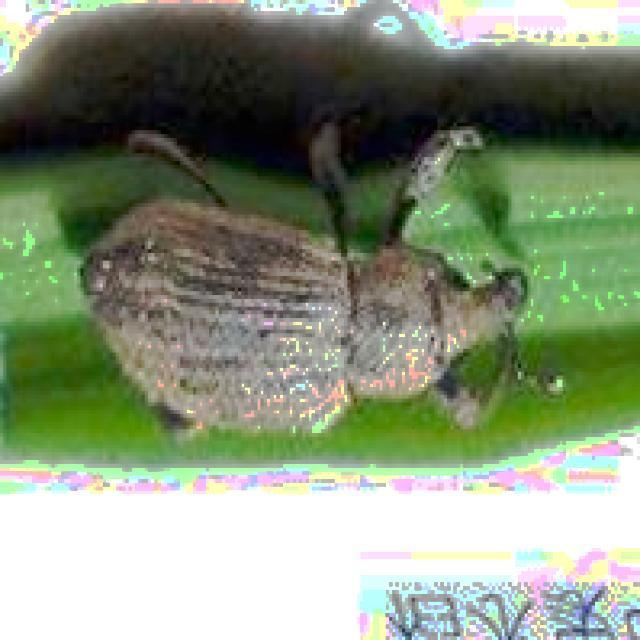rice-bug: (78, 121, 538, 443)
